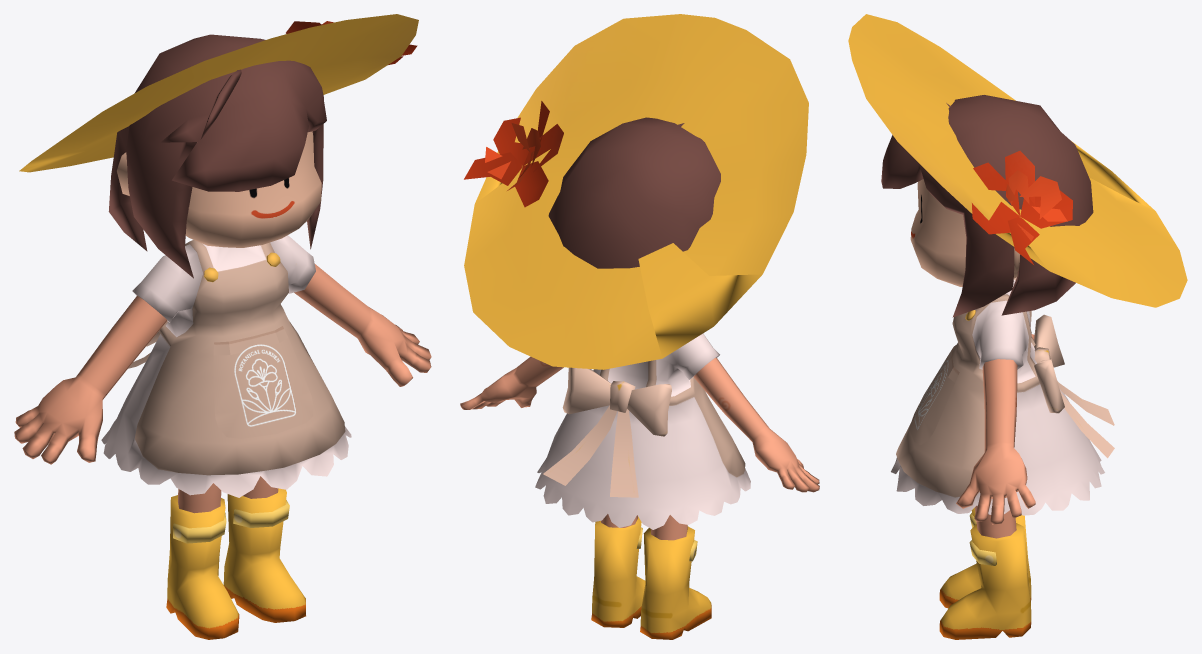
Rendered from girlTest.glb.
3 renders of one model, left to right at view 1: azimuth 30°, elevation 25°; view 2: azimuth 150°, elevation 25°; view 3: azimuth 270°, elevation 25°, orthographic. The views are drawn at different scales.
Visible parts, largest first — view 1: Object003; view 2: Object003; view 3: Object003.
Part boxes in pixels (x1,y1,x2,y2): Object003: [14, 14, 431, 639]; Object003: [460, 14, 819, 639]; Object003: [848, 14, 1187, 639].
Size of the model in its own units: 0.2886 by 0.4341 by 0.2322.
Materials: 1 (1 with a texture image).
